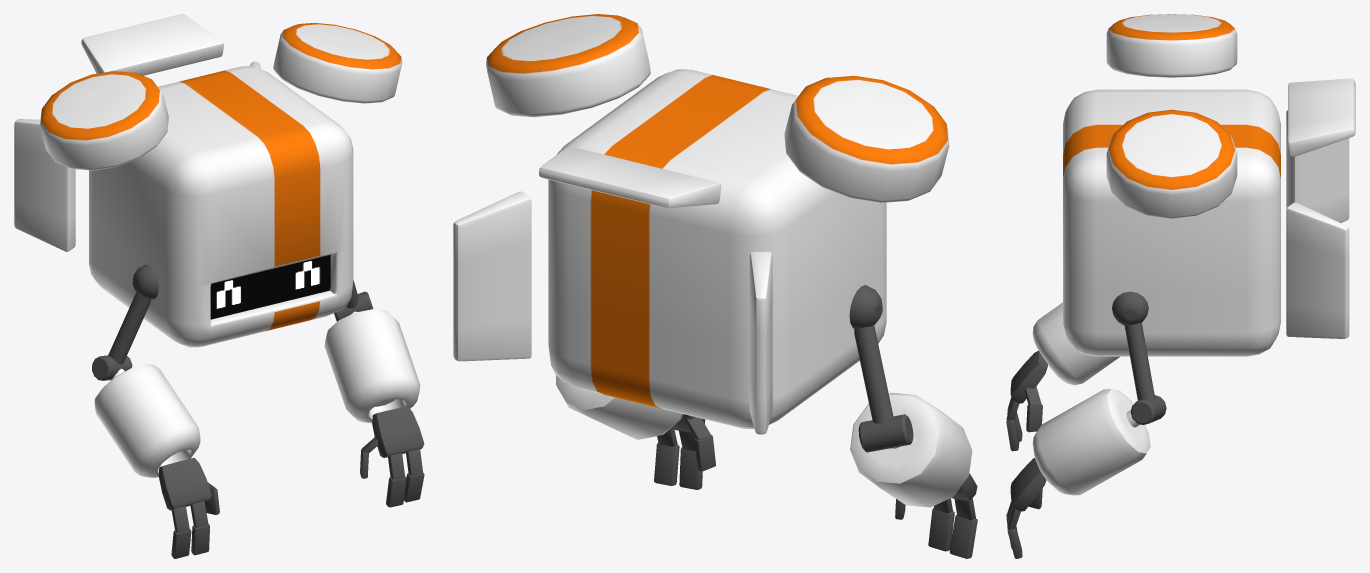
The model's file is droid.glb.
The picture shows the model from 3 angles, left to right: view 1: azimuth 30°, elevation 25°; view 2: azimuth 150°, elevation 25°; view 3: azimuth 270°, elevation 25°; orthographic projection. The views are drawn at different scales.
Parts seen in each view (by area): view 1: orange_robot; view 2: orange_robot; view 3: orange_robot.
Boxes of the visible parts, <box> form: orange_robot: <box>14,14,424,558</box>; orange_robot: <box>453,14,977,558</box>; orange_robot: <box>1006,14,1355,558</box>.
Size of the model in its own units: 1.35 by 1.54 by 1.15.
1 material, 1 textured.
